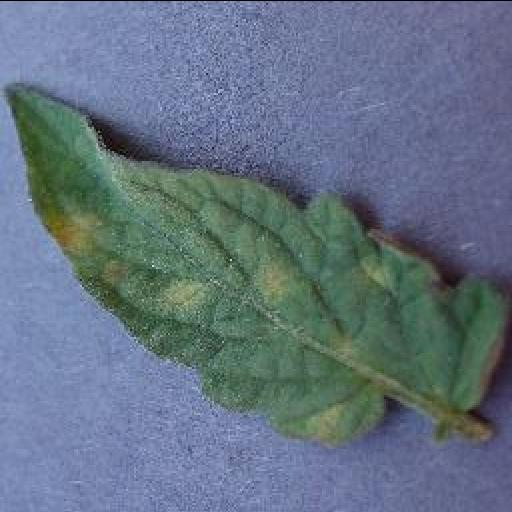disease_tomato: (6, 84, 512, 444)
